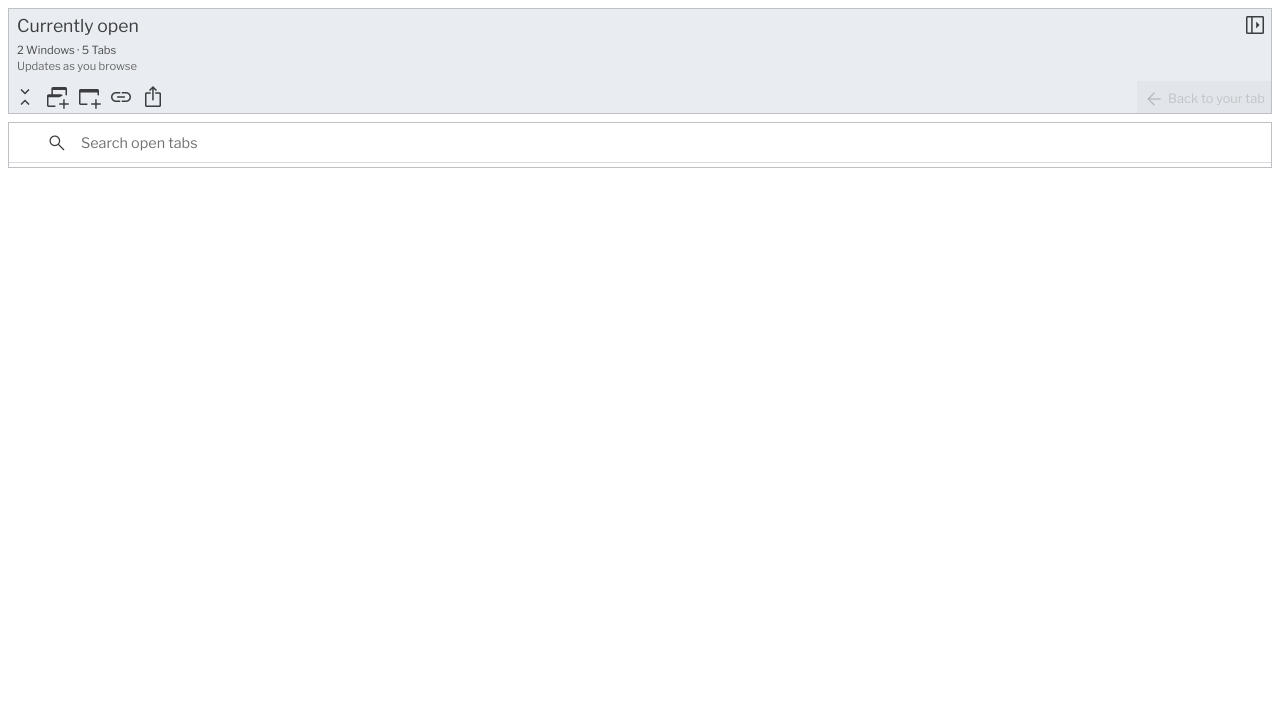
Test: live windows and groups (Open now) › Open now's header right-click › it copies every open window in the session copy's shape, named as Save all would name it
This screenshot has width=1280, height=720.
Right-click the heading "Currently open": {"x": 78, "y": 25} [17,14,139,36]
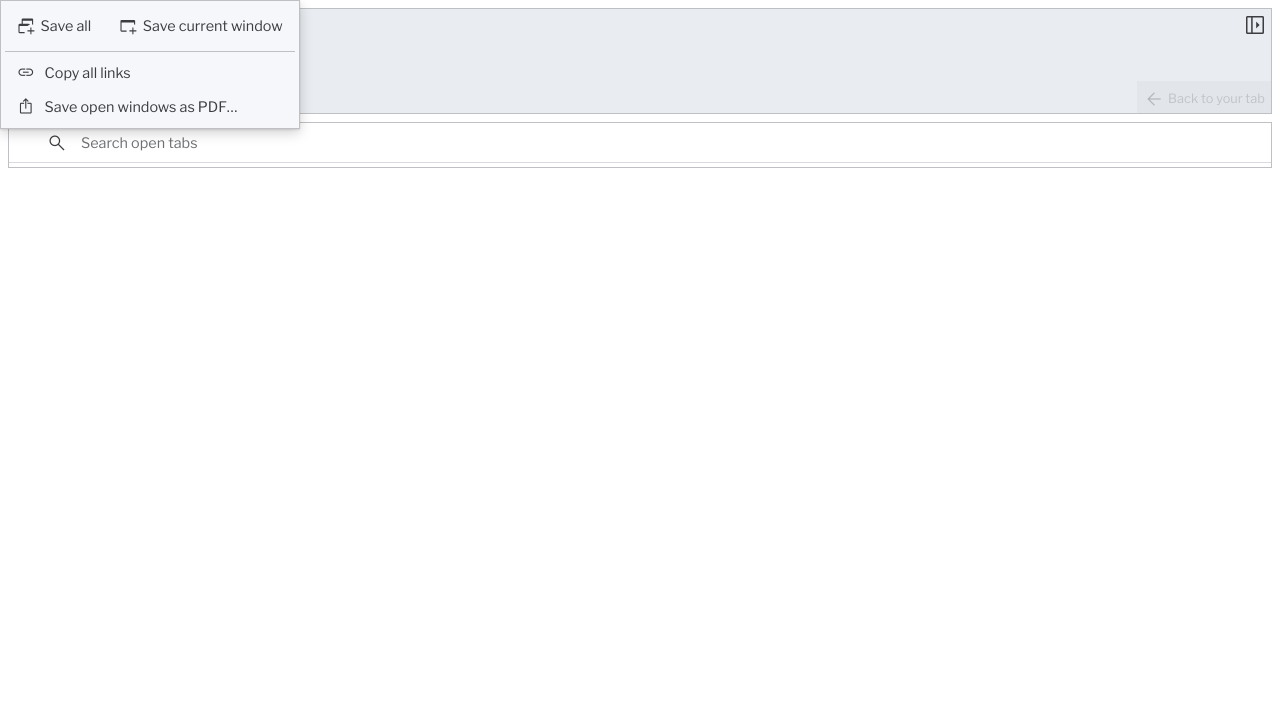
Click the menu item "Copy all links": {"x": 88, "y": 73} [5,56,295,90]
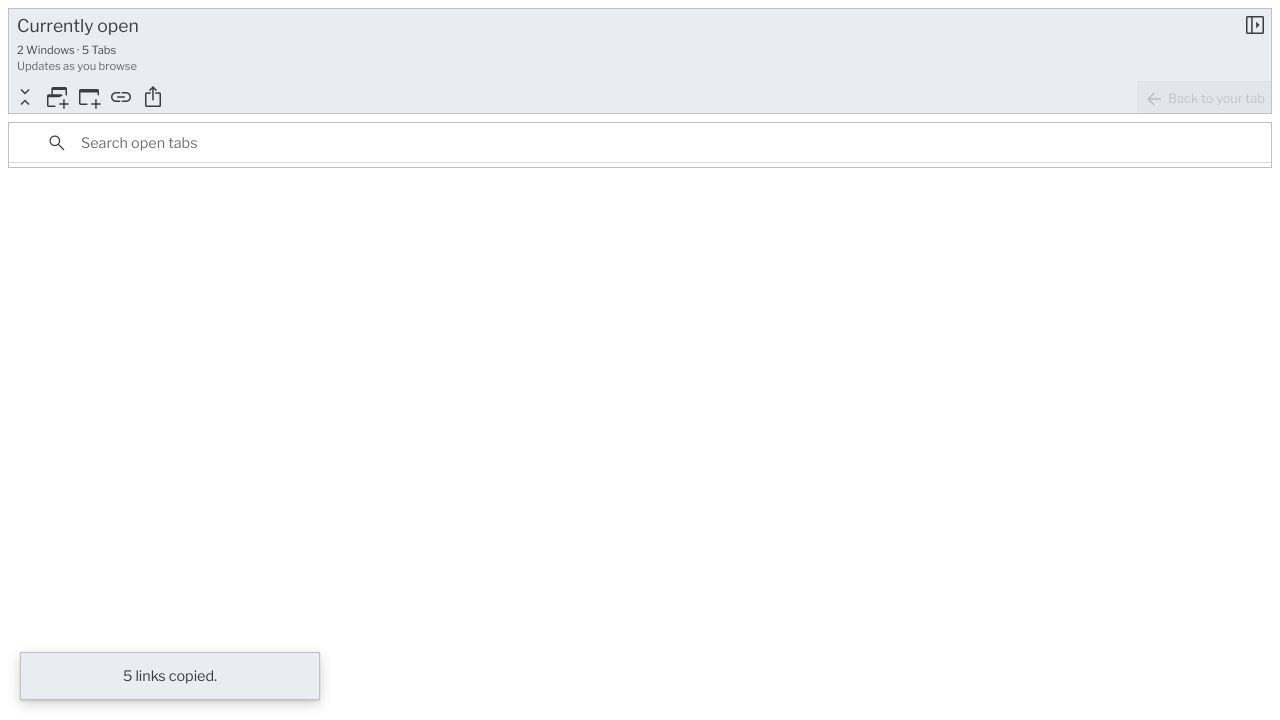
Now the text "5 links copied." is shown, box [123,667,217,685]
